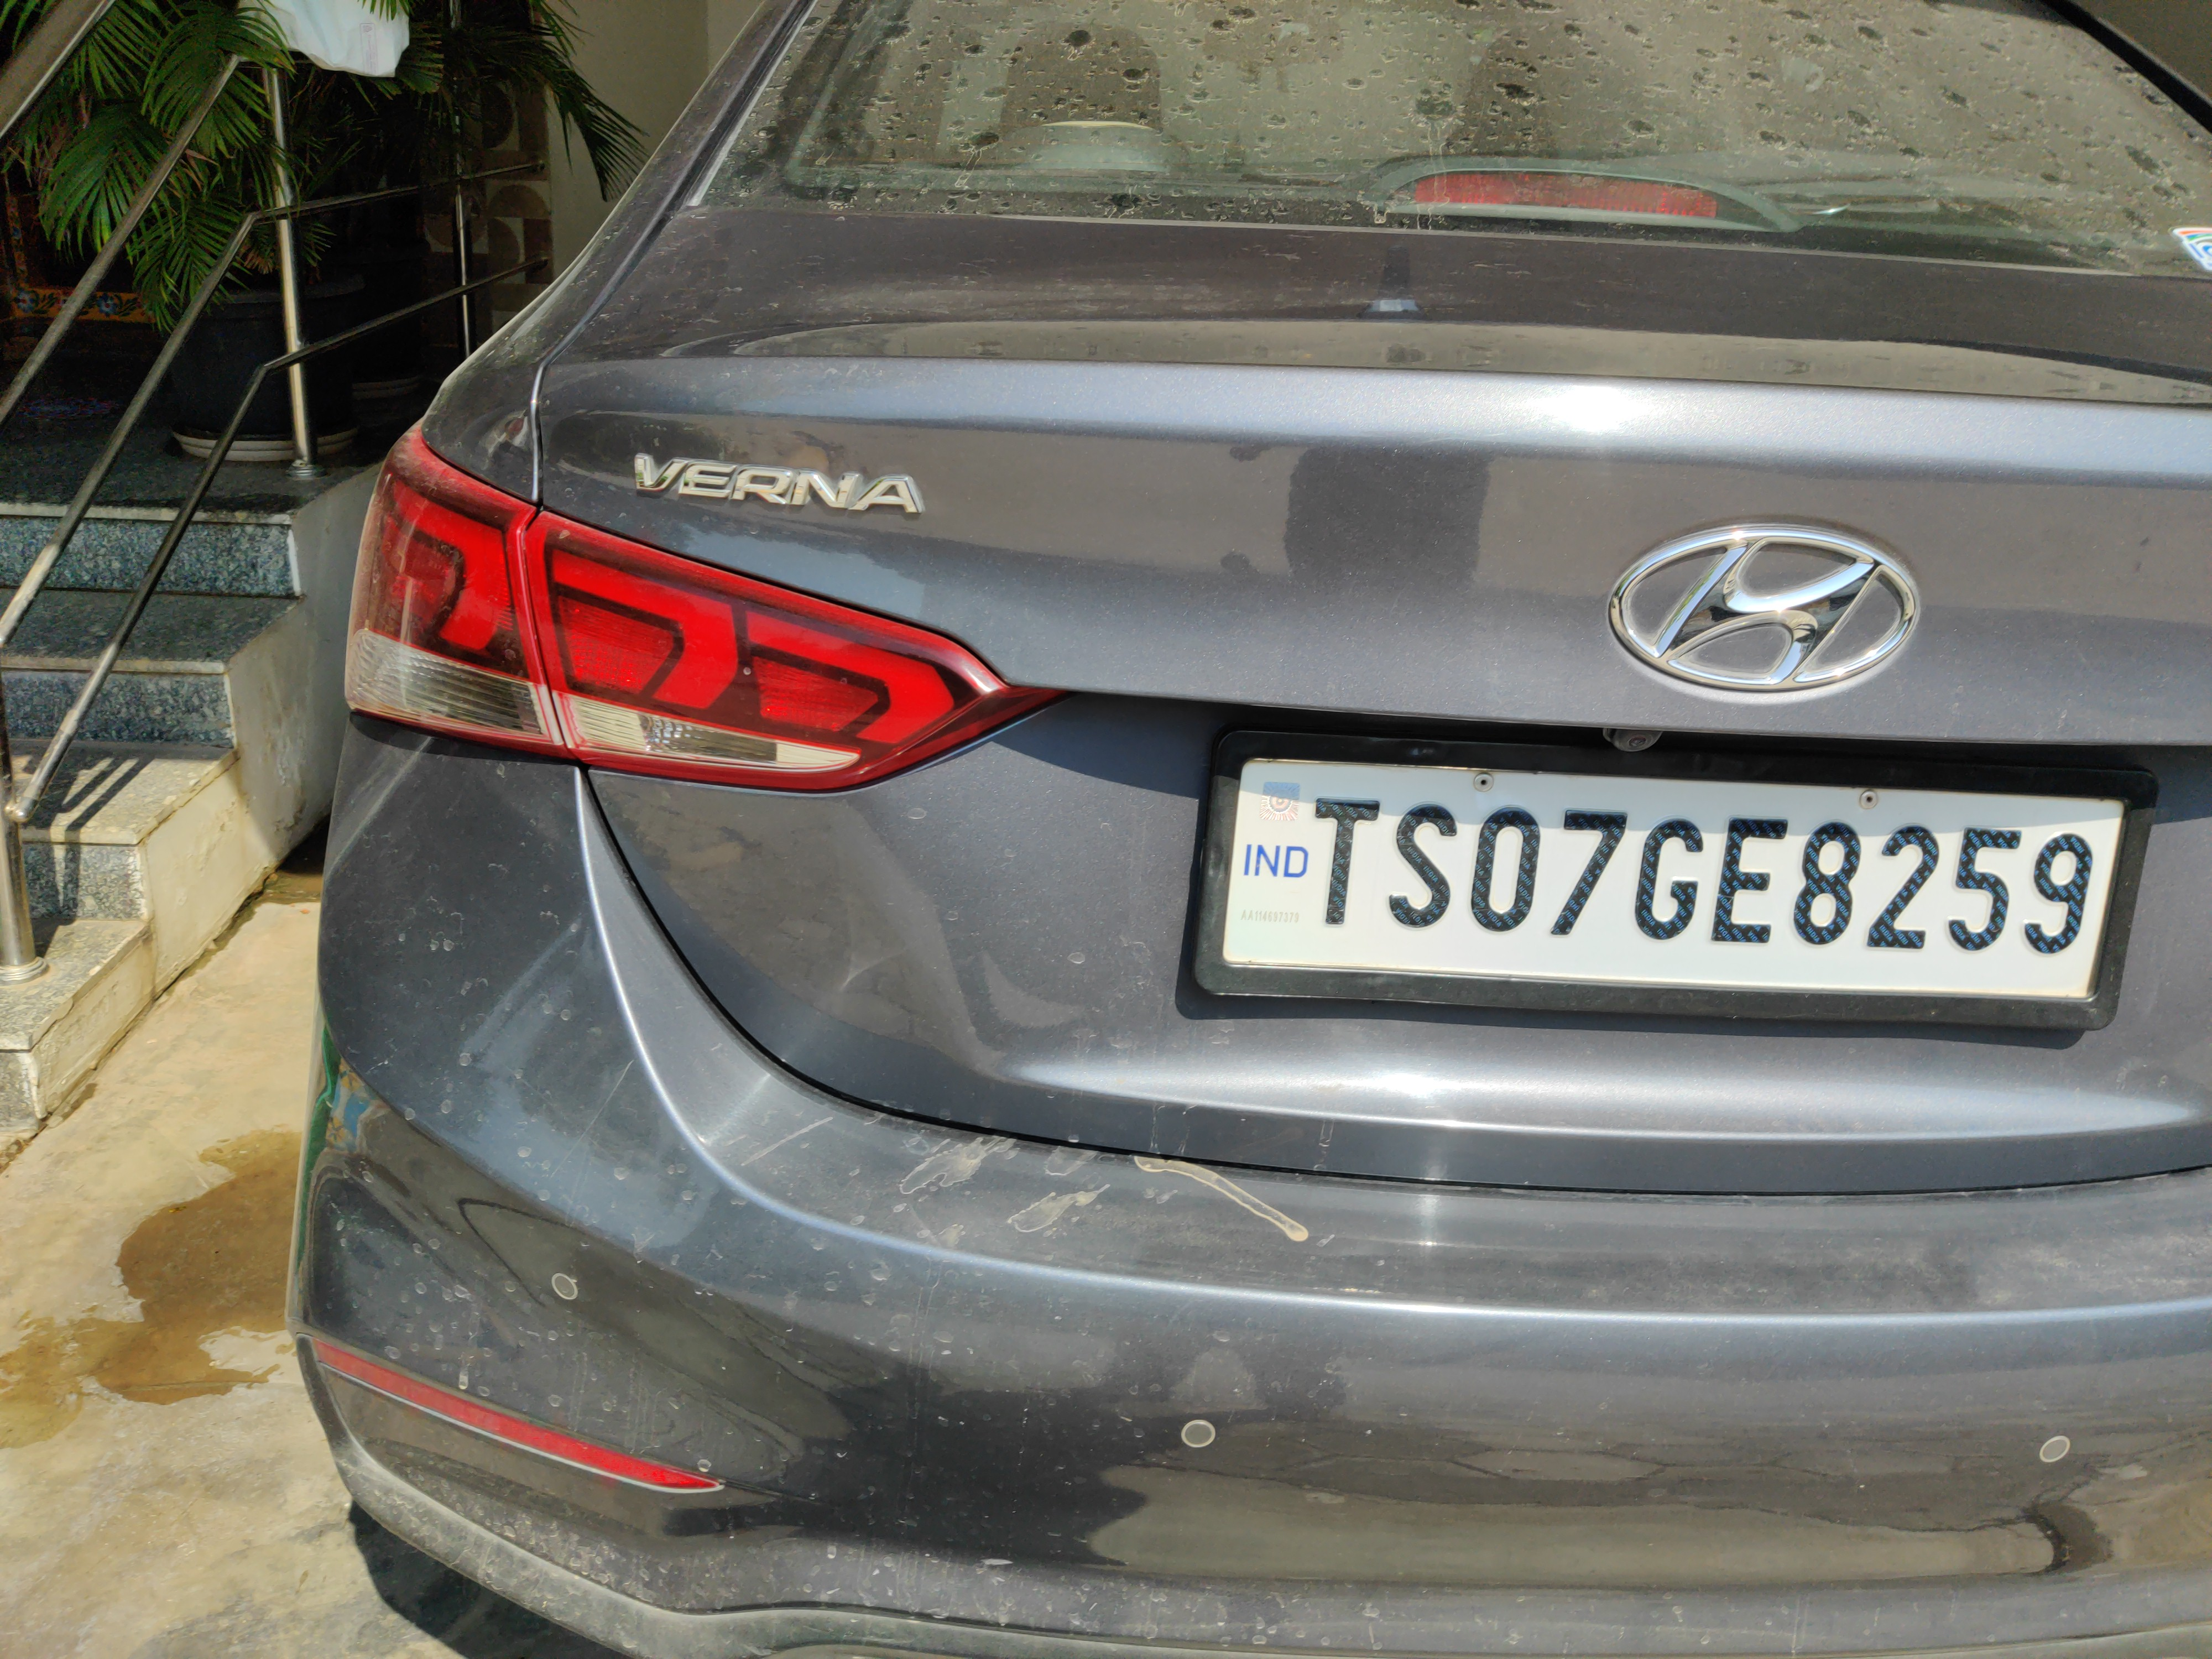plate: (1157, 684, 2171, 1062)
